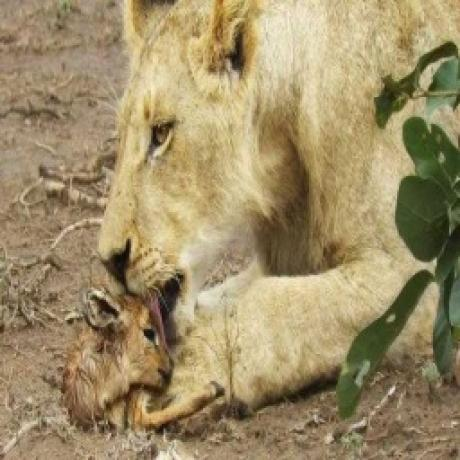Lion: (98, 0, 460, 434)
